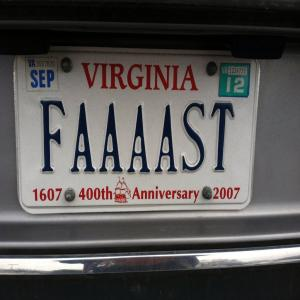Vehicle-registration-plate: (14, 45, 263, 215)
